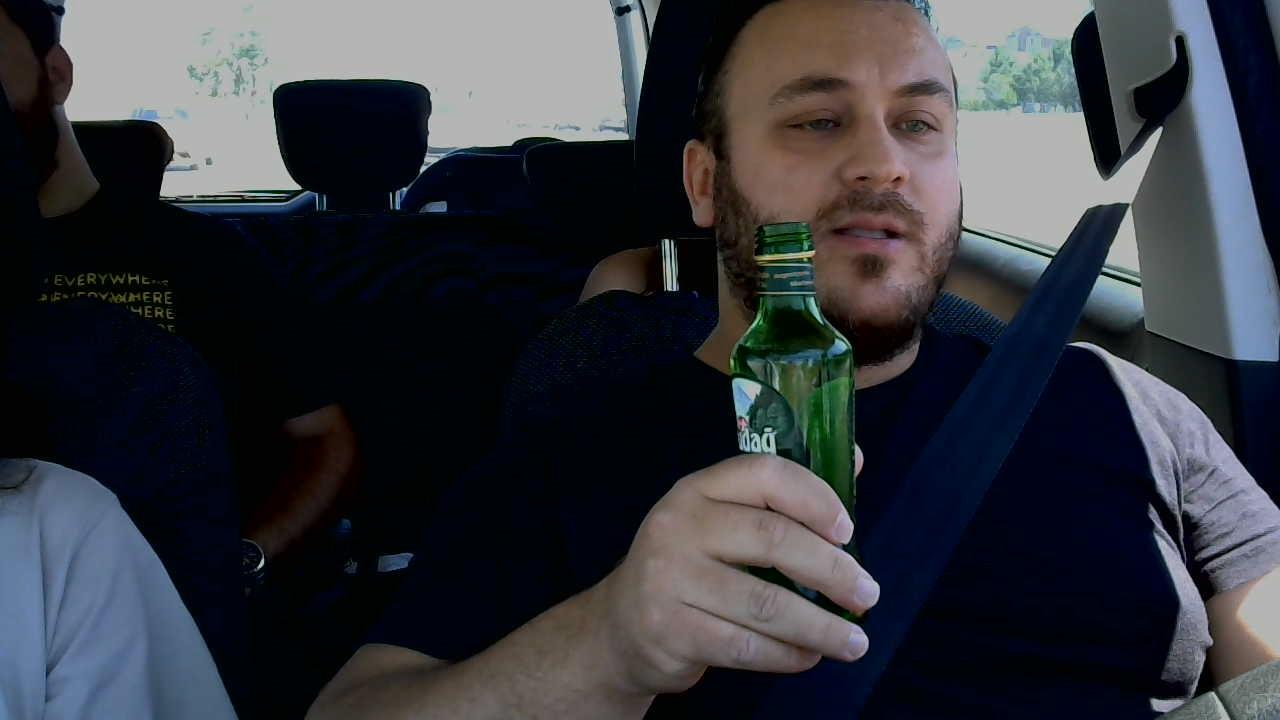Drinking: (683, 0, 958, 531)
